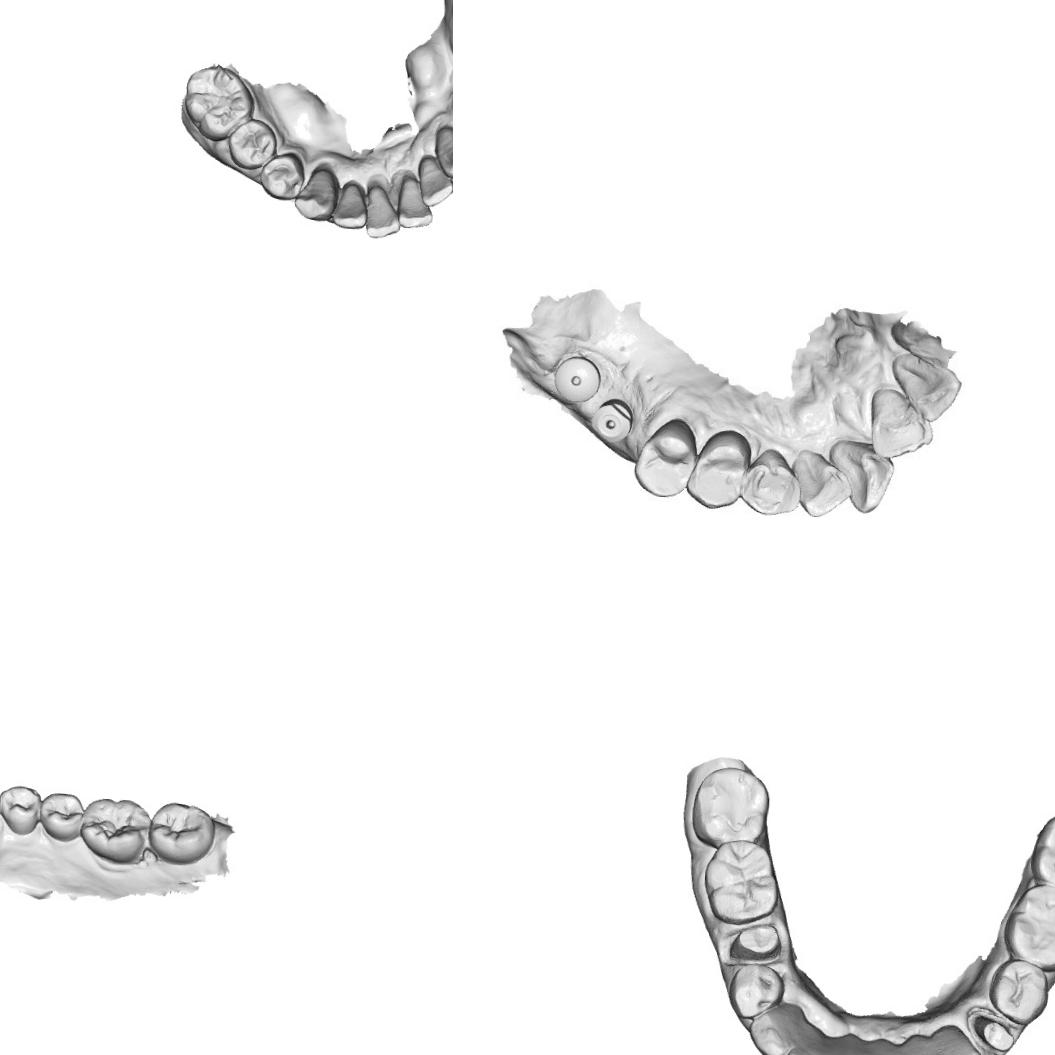canine: (291, 162, 338, 222), (747, 1004, 795, 1055), (935, 1030, 986, 1055), (432, 123, 453, 180)
crown: (727, 922, 782, 963), (967, 1011, 1018, 1055)
implant: (548, 347, 606, 407), (589, 392, 634, 442)
incisor: (892, 350, 960, 414), (830, 443, 894, 507), (870, 391, 932, 453), (794, 455, 846, 514), (395, 172, 436, 230), (362, 181, 402, 240), (414, 152, 453, 209), (330, 177, 371, 231), (779, 1036, 829, 1055), (900, 1039, 944, 1055), (817, 1044, 861, 1055)
molar: (700, 839, 782, 928), (688, 764, 772, 850), (178, 62, 258, 144), (78, 792, 152, 866), (146, 799, 216, 868), (1005, 882, 1055, 971), (1033, 808, 1055, 891)
premolar: (630, 413, 698, 498), (688, 434, 751, 506), (988, 956, 1049, 1024), (728, 958, 786, 1021), (742, 457, 798, 515), (224, 115, 282, 170), (256, 149, 307, 202), (36, 788, 84, 844), (0, 782, 47, 837)
